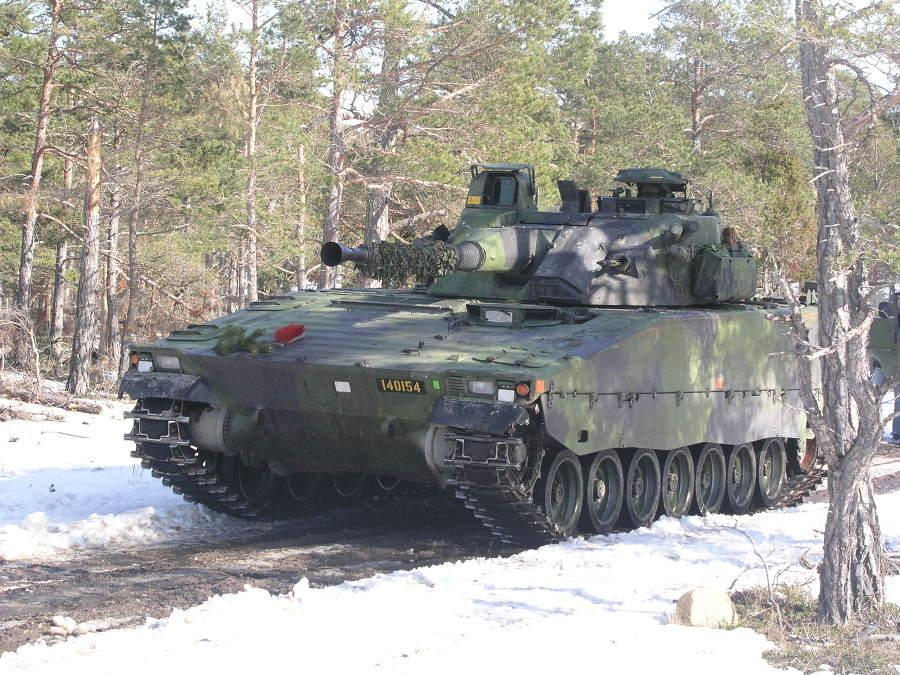MIL_IFV: (116, 164, 839, 542)
